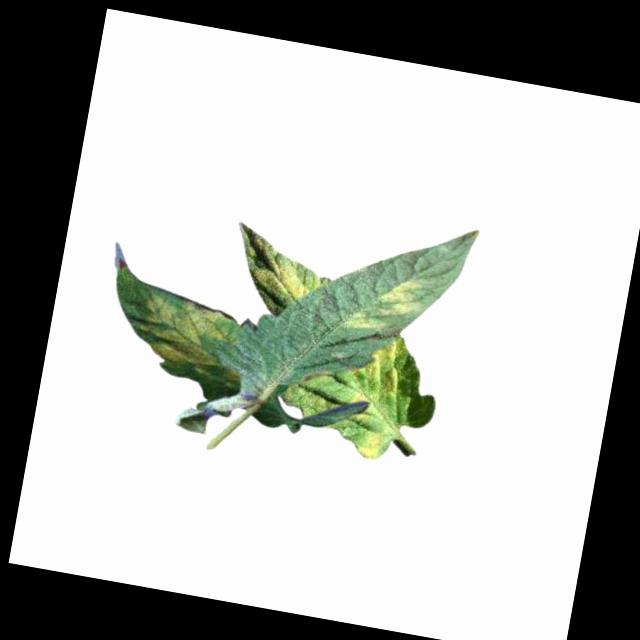Leaf_Mold: (136, 294, 253, 386), (225, 222, 326, 314), (341, 269, 426, 343), (355, 335, 406, 396), (355, 428, 391, 463), (344, 393, 373, 425)
